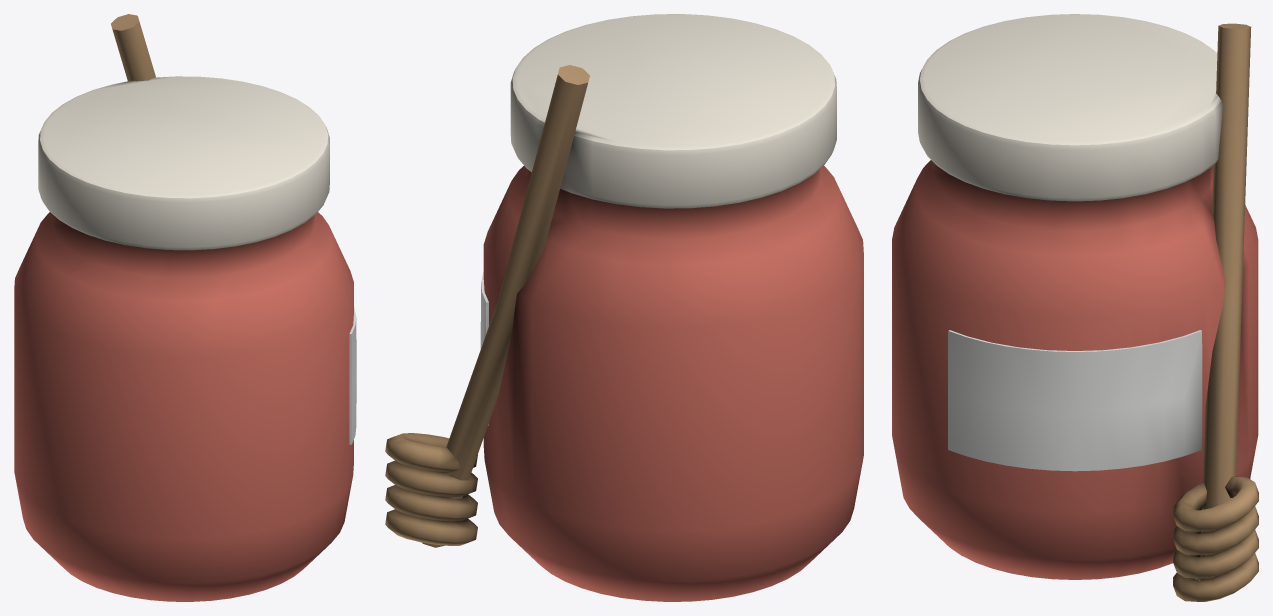
File: food_honey.glb
The picture shows the model from 3 angles, left to right: view 1: azimuth 30°, elevation 25°; view 2: azimuth 150°, elevation 25°; view 3: azimuth 270°, elevation 25°; orthographic projection. The views are drawn at different scales.
Visible parts, largest first — view 1: PART; view 2: PART; view 3: PART.
Boxes of the visible parts, <box> form: PART: <box>14,14,356,601</box>; PART: <box>385,14,863,601</box>; PART: <box>892,14,1258,601</box>.
Bounding box in the file's own units: 0.1274 × 0.1713 × 0.1125.
